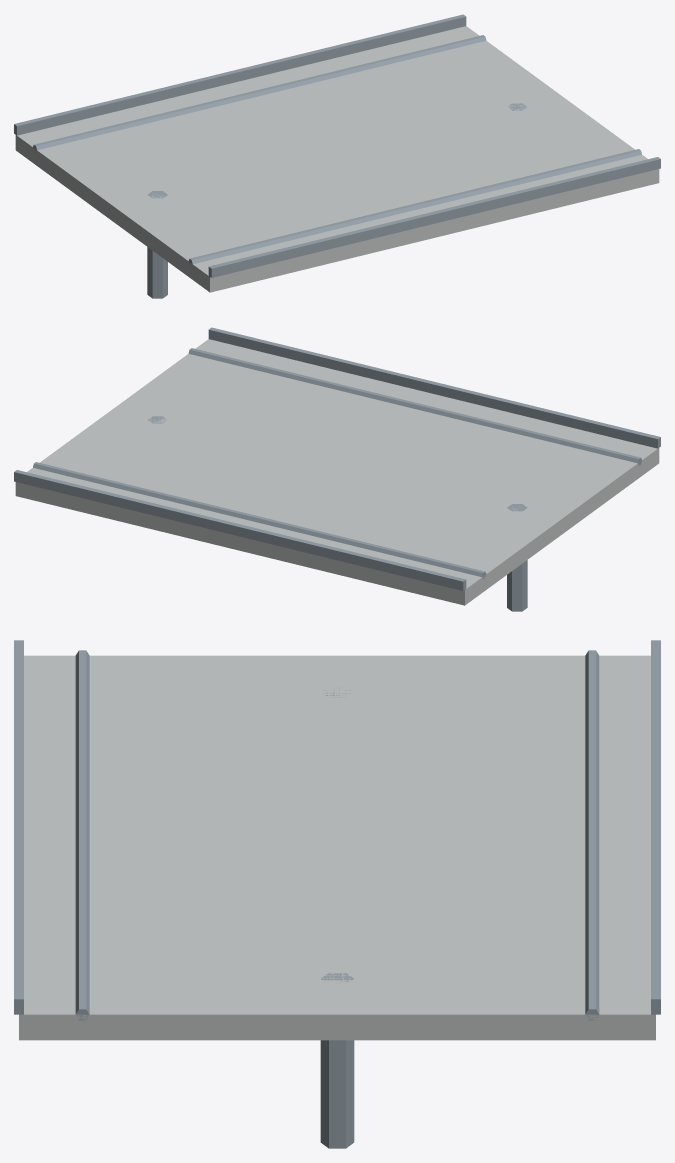
Rendered from source.glb.
3 views of the same model, one above another, from view 1: azimuth 30°, elevation 25°; view 2: azimuth 150°, elevation 25°; view 3: azimuth 270°, elevation 25° (orthographic). The views are drawn at different scales.
Parts seen in each view (by area): view 1: worldgen; view 2: worldgen; view 3: worldgen.
Boxes of the visible parts, left/top/right/bottom form: worldgen: left=14, top=14, right=660, bottom=298; worldgen: left=14, top=327, right=660, bottom=611; worldgen: left=14, top=640, right=660, bottom=1148.
Size of the model in its own units: 60 by 13.95 by 45.7.
